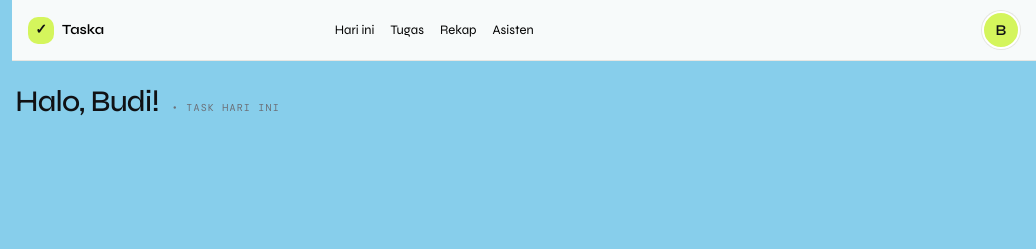
it: Dashboard › menu baru muncul setelah avatar diklik
Click the button named "menu profil".
click(1001, 30)  # box [982, 11, 1020, 49]
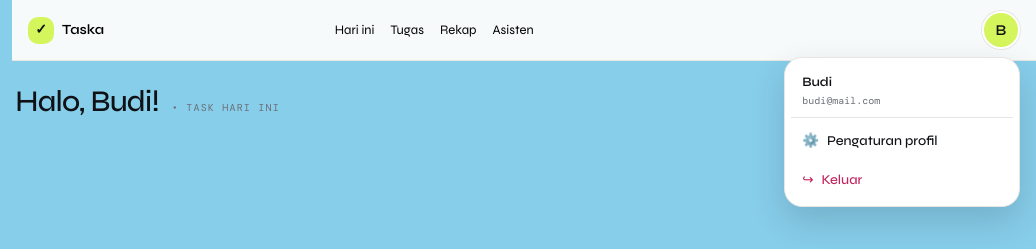
Now the menu item "⚙️ Pengaturan profil" is shown, box [791, 122, 1013, 161]
Now the menu item "↪ Keluar" is shown, box [791, 161, 1013, 200]
